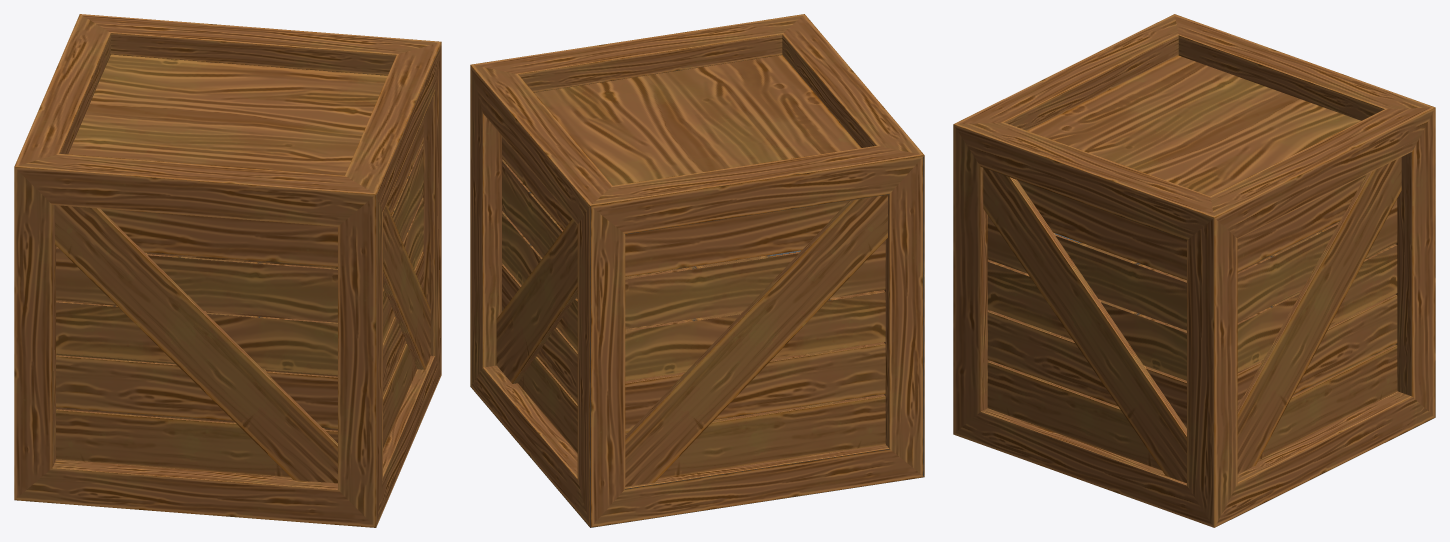
The picture shows the model from 3 angles, left to right: view 1: azimuth 30°, elevation 25°; view 2: azimuth 150°, elevation 25°; view 3: azimuth 270°, elevation 25°; orthographic projection. The views are drawn at different scales.
Parts seen in each view (by area): view 1: Cube.839; view 2: Cube.839; view 3: Cube.839.
Boxes of the visible parts, x1=… form: Cube.839: x1=14, y1=14, x2=441, y2=527; Cube.839: x1=470, y1=14, x2=924, y2=527; Cube.839: x1=953, y1=14, x2=1435, y2=527.
Size of the model in its own units: 187 by 133 by 187.
1 material, 1 textured.
